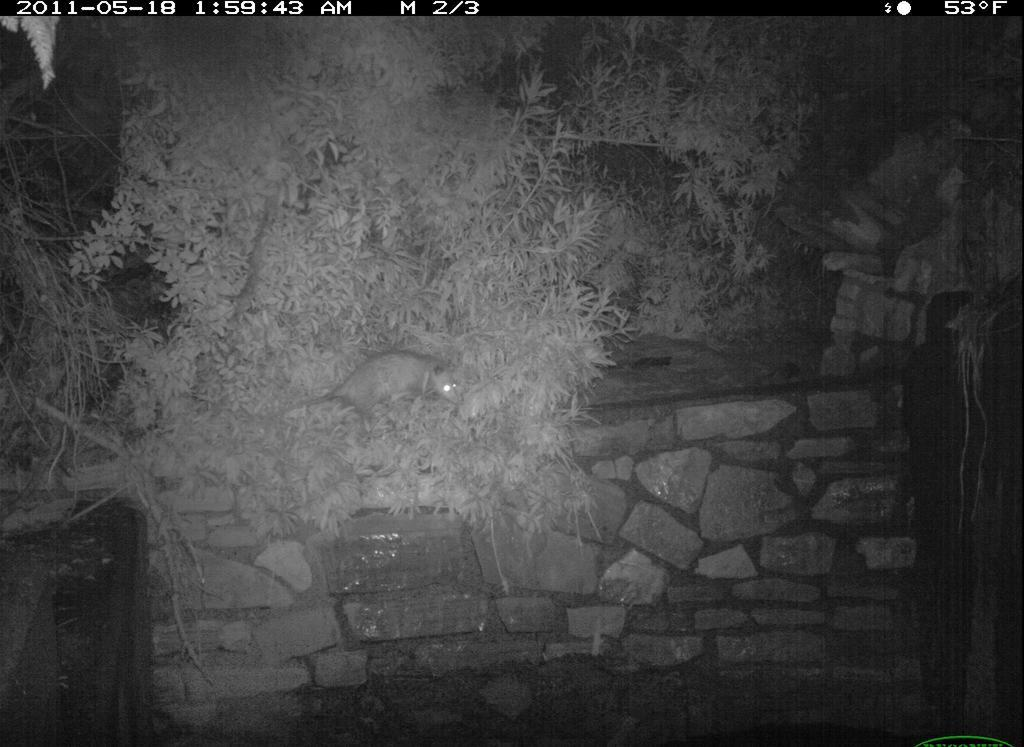opossum: (262, 346, 484, 441)
